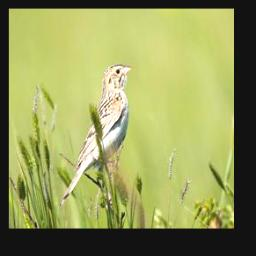Sparrow: (58, 62, 133, 210)
